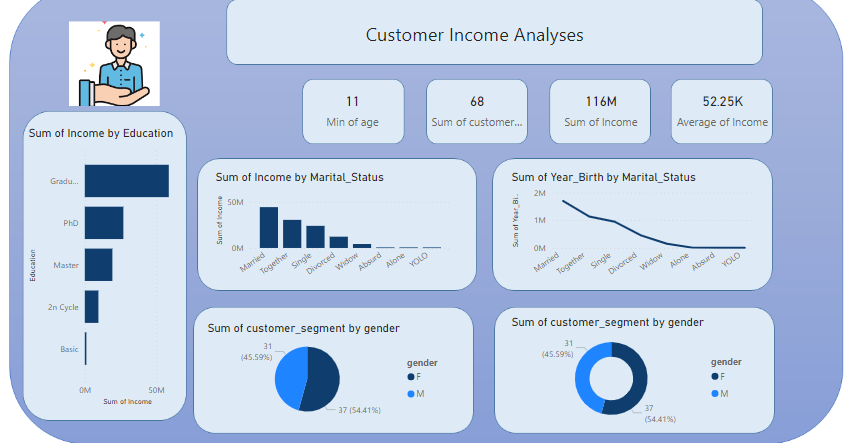

The dashboard page shown, as its layout file describes it:
{"tool":"powerbi","page":{"name":"Page 3","canvas":[1280,720],"ordinal":2},"visuals":[{"type":"image","box":[10.5,0,1250.4,720.2],"z":0},{"type":"lineChart","fields":{"Y":["Sum(Customer-Detail.Year_Birth)"],"Category":["Customer-Detail.Marital_Status"]},"box":[755.1,299.9,364.5,167.4],"z":1000},{"type":"donutChart","fields":{"Y":["Sum(customerdata.customer_segment)"],"Category":["customerdata.gender"]},"box":[755.1,511,364.5,165.7],"z":2000},{"type":"columnChart","fields":{"Category":["Customer-Detail.Marital_Status"],"Y":["Sum(Customer-Detail.Income)"]},"box":[324.4,299.9,352.3,167.4],"z":3000},{"type":"pieChart","fields":{"Category":["customerdata.gender"],"Y":["Sum(customerdata.customer_segment)"]},"box":[312.2,519.7,364.5,150],"z":4000},{"type":"card","fields":{"Values":["Avg(Customer-Detail.Income)"]},"box":[990.5,158.9,152.4,104.5],"z":5000},{"type":"card","fields":{"Values":["Sum(Customer-Detail.Income)"]},"box":[816.3,158.9,148,104.5],"z":6000},{"type":"card","fields":{"Values":["Sum(customerdata.customer_segment)"]},"box":[635.6,158.9,148,104.5],"z":7000},{"type":"card","fields":{"Values":["Min(customerdata.age)"]},"box":[457.1,158.9,143.7,104.5],"z":8000},{"type":"barChart","fields":{"Y":["Sum(Customer-Detail.Income)"],"Category":["Customer-Detail.Education"]},"box":[52.2,235.1,228.6,411.4],"z":9000},{"type":"textbox","box":[402.7,78.4,607.3,47.9],"z":10000},{"type":"image","box":[52.3,78.5,259.8,132.5],"z":10001}]}

Visuals, with their boxes on the page's 1280x720 design canvas (x1, y1, x2, y2). These are canvas units, not pixel positions in the 849x443 screenshot, which may show the page scaled, cropped or inside an application window:
image: <bbox>10, 0, 1261, 720</bbox>
lineChart - Sum(Customer-Detail.Year_Birth) x Customer-Detail.Marital_Status: <bbox>755, 300, 1120, 467</bbox>
donutChart - Sum(customerdata.customer_segment) x customerdata.gender: <bbox>755, 511, 1120, 677</bbox>
columnChart - Customer-Detail.Marital_Status x Sum(Customer-Detail.Income): <bbox>324, 300, 677, 467</bbox>
pieChart - customerdata.gender x Sum(customerdata.customer_segment): <bbox>312, 520, 677, 670</bbox>
card - Avg(Customer-Detail.Income): <bbox>990, 159, 1143, 263</bbox>
card - Sum(Customer-Detail.Income): <bbox>816, 159, 964, 263</bbox>
card - Sum(customerdata.customer_segment): <bbox>636, 159, 784, 263</bbox>
card - Min(customerdata.age): <bbox>457, 159, 601, 263</bbox>
barChart - Sum(Customer-Detail.Income) x Customer-Detail.Education: <bbox>52, 235, 281, 646</bbox>
textbox: <bbox>403, 78, 1010, 126</bbox>
image: <bbox>52, 78, 312, 211</bbox>
